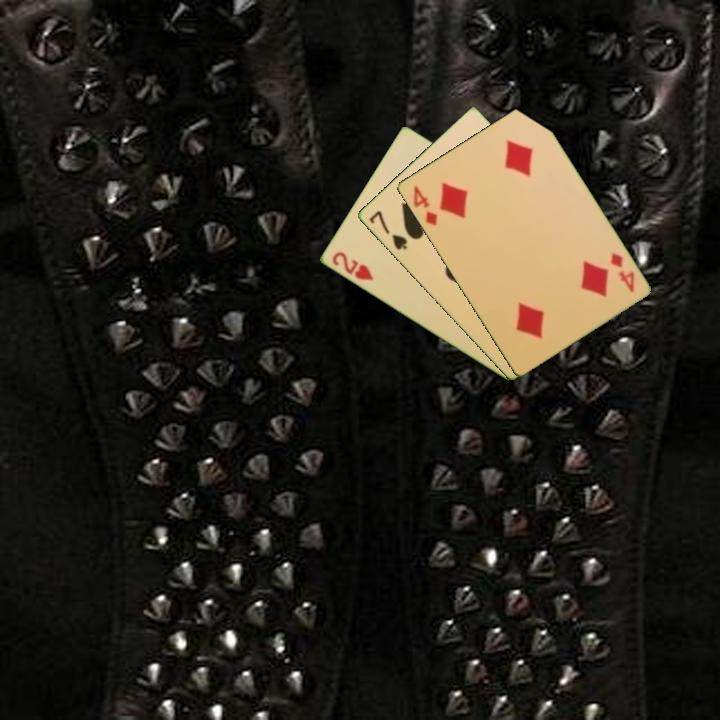2h: (328, 248, 376, 284)
4d: (409, 182, 440, 228), (607, 249, 637, 295)
7s: (365, 207, 409, 253)
